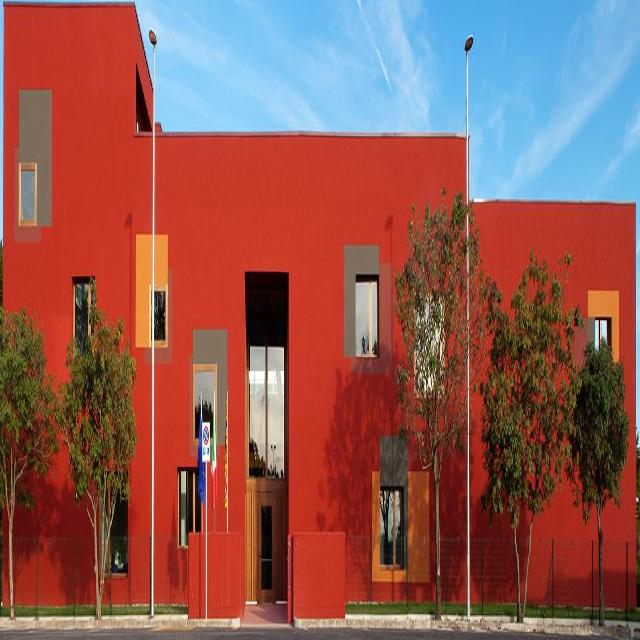door: (246, 474, 287, 608)
plant: (479, 253, 627, 630), (394, 183, 503, 624), (54, 308, 136, 618), (0, 311, 56, 627)
wall: (0, 0, 637, 614)
windows: (248, 342, 284, 472), (20, 97, 52, 230), (355, 274, 377, 354), (380, 483, 402, 562), (111, 494, 127, 580), (74, 280, 93, 352), (194, 368, 213, 437), (151, 285, 166, 342), (180, 469, 189, 544), (595, 322, 608, 343)
